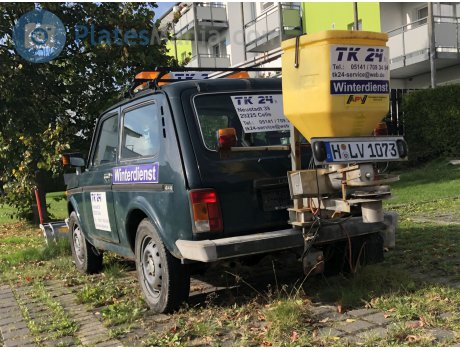License Plates: (329, 146, 393, 154)
